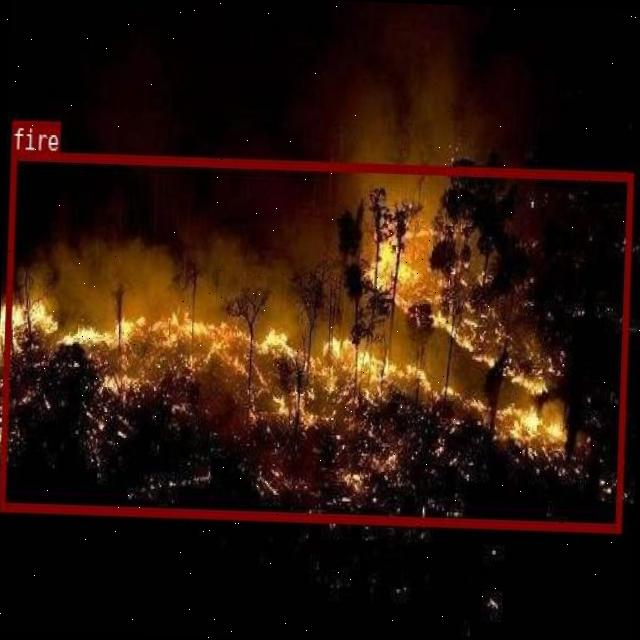fire: (0, 149, 632, 531)
